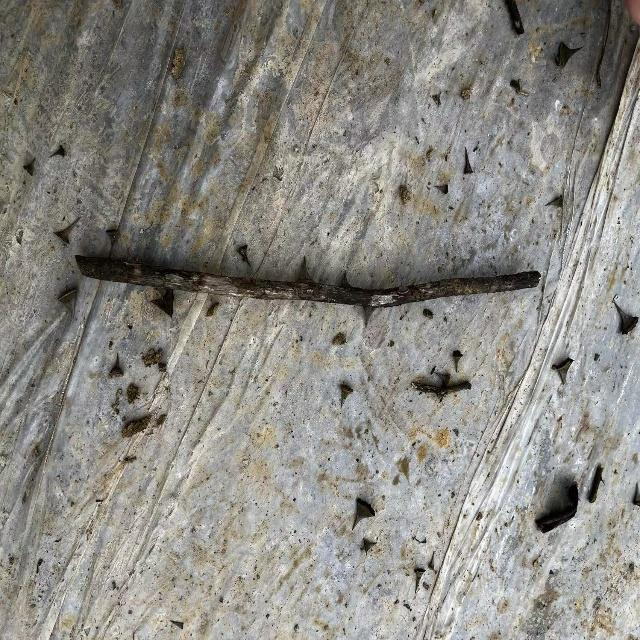branch: (75, 255, 541, 311)
